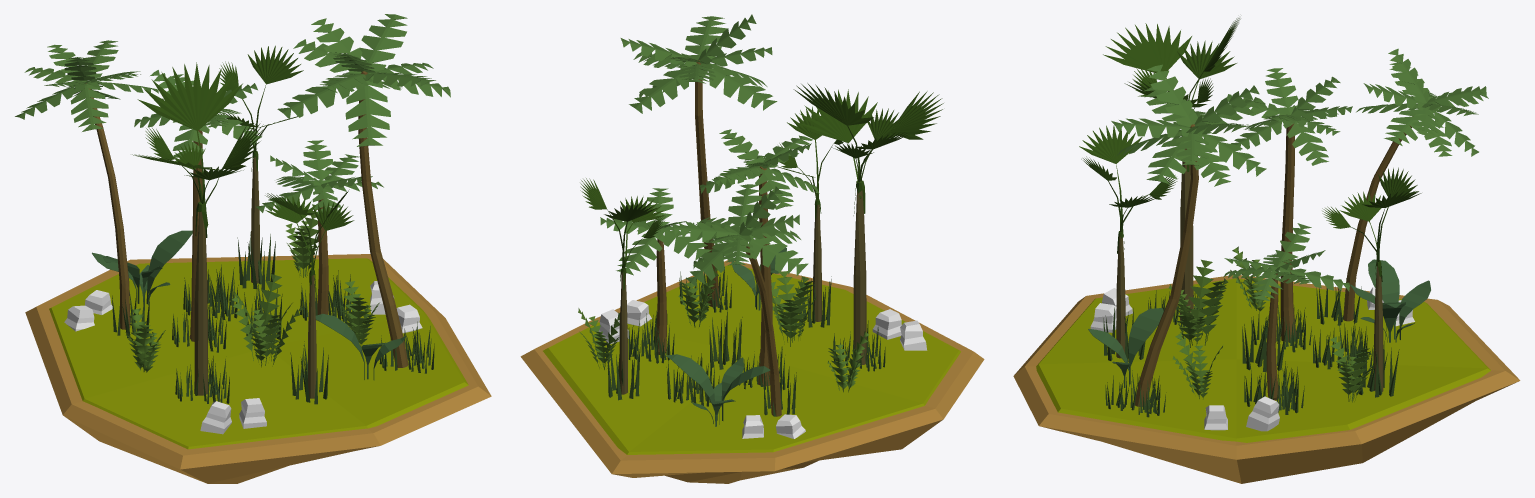
The model's file is palm-island.glb.
3 renders of one model, left to right at view 1: azimuth 30°, elevation 25°; view 2: azimuth 150°, elevation 25°; view 3: azimuth 270°, elevation 25°, orthographic. The views are drawn at different scales.
Visible parts, largest first — view 1: Cube.001, Cube, Trees_G_1, Trees_E_1.001, Trees_G_7, Trees_G_8, Trees_G_4, Trees_E_3.002, Trees_E_3.001, Plants_A_1, Plants_B_2.001, Plants_B_3.001 (+16 smaller); view 2: Cube.001, Cube, Trees_G_1, Trees_G_7, Trees_E_1.001, Trees_G_4, Trees_G_8, Trees_E_3.002, Plants_B_2.001, Trees_E_3.001, Plants_A_1, Plants_F_1.001 (+16 smaller); view 3: Cube.001, Cube, Trees_G_1, Trees_G_7, Trees_G_4, Trees_E_1.001, Trees_G_8, Trees_E_3.002, Trees_E_3.001, Plants_B_2.001, Plants_A_1, Plants_B_3.001 (+13 smaller).
Boxes of the visible parts, <box> form: Cube.001: <box>49,258,468,449</box>; Cube: <box>25,254,491,483</box>; Trees_G_1: <box>277,14,450,367</box>; Trees_E_1.001: <box>132,62,263,395</box>; Trees_G_7: <box>15,40,158,329</box>; Trees_G_8: <box>255,140,383,314</box>; Trees_G_4: <box>134,70,261,341</box>; Trees_E_3.002: <box>218,45,303,283</box>; Trees_E_3.001: <box>265,189,354,398</box>; Plants_A_1: <box>232,274,303,367</box>; Plants_B_2.001: <box>92,230,192,304</box>; Plants_B_3.001: <box>315,313,405,380</box>; Cube.001: <box>543,265,960,454</box>; Cube: <box>520,260,984,483</box>; Trees_G_1: <box>620,14,777,306</box>; Trees_G_7: <box>672,184,808,416</box>; Trees_E_1.001: <box>793,83,943,364</box>; Trees_G_4: <box>700,129,819,386</box>; Trees_G_8: <box>600,188,711,354</box>; Trees_E_3.002: <box>580,178,665,394</box>; Plants_B_2.001: <box>666,354,770,426</box>; Trees_E_3.001: <box>776,106,843,321</box>; Plants_A_1: <box>771,271,816,346</box>; Plants_F_1.001: <box>628,311,674,363</box>; Cube.001: <box>1036,278,1490,442</box>; Cube: <box>1013,275,1520,483</box>; Trees_G_1: <box>1111,64,1266,406</box>; Trees_G_7: <box>1343,48,1488,321</box>; Trees_G_4: <box>1227,68,1352,342</box>; Trees_E_1.001: <box>1103,18,1240,320</box>; Trees_G_8: <box>1223,223,1349,400</box>; Trees_E_3.002: <box>1322,167,1421,391</box>; Trees_E_3.001: <box>1079,125,1177,358</box>; Plants_B_2.001: <box>1350,259,1430,342</box>; Plants_A_1: <box>1169,259,1228,347</box>; Plants_B_3.001: <box>1088,308,1163,387</box>.
Bounding box in the file's own units: 13.09 × 13.91 × 15.2.
